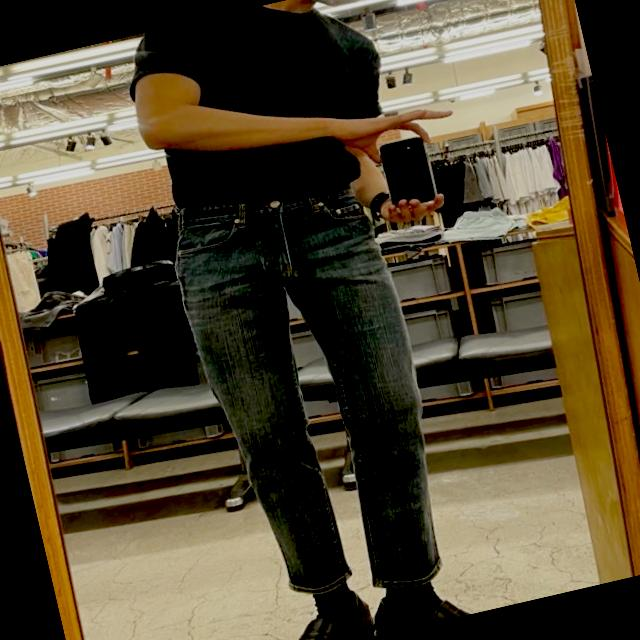denimpants: (157, 170, 460, 622)
shortsleeve: (112, 0, 408, 229)
